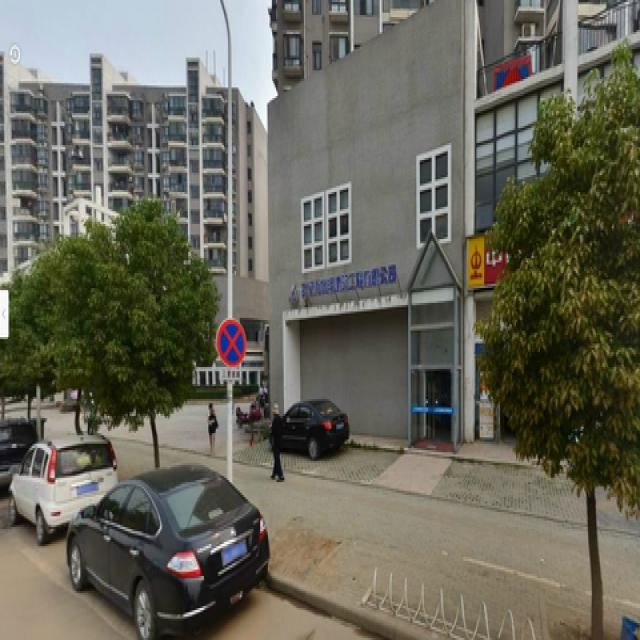cinn: (514, 104, 634, 638), (118, 241, 186, 463), (61, 265, 92, 416)
